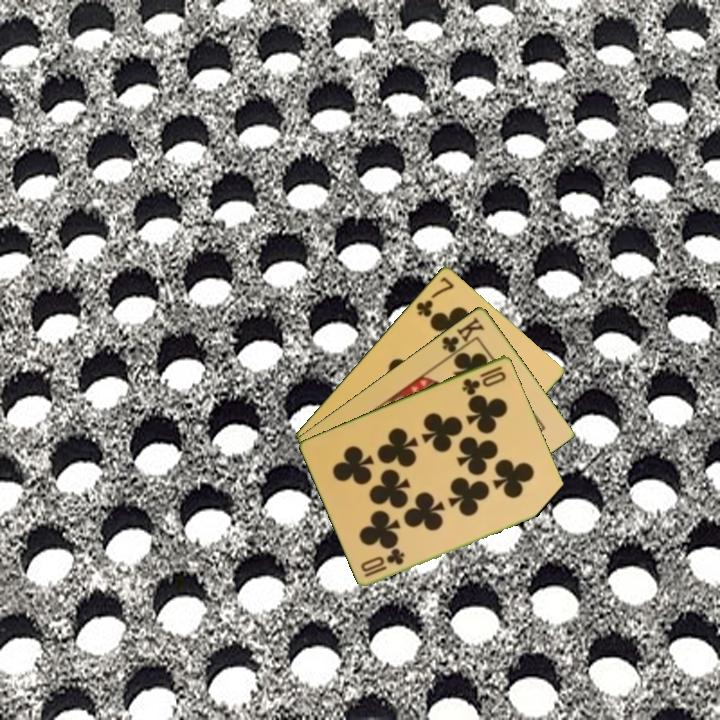10c: (458, 362, 509, 397), (361, 546, 408, 580)
7c: (412, 273, 457, 320)
Kc: (438, 313, 488, 360)
